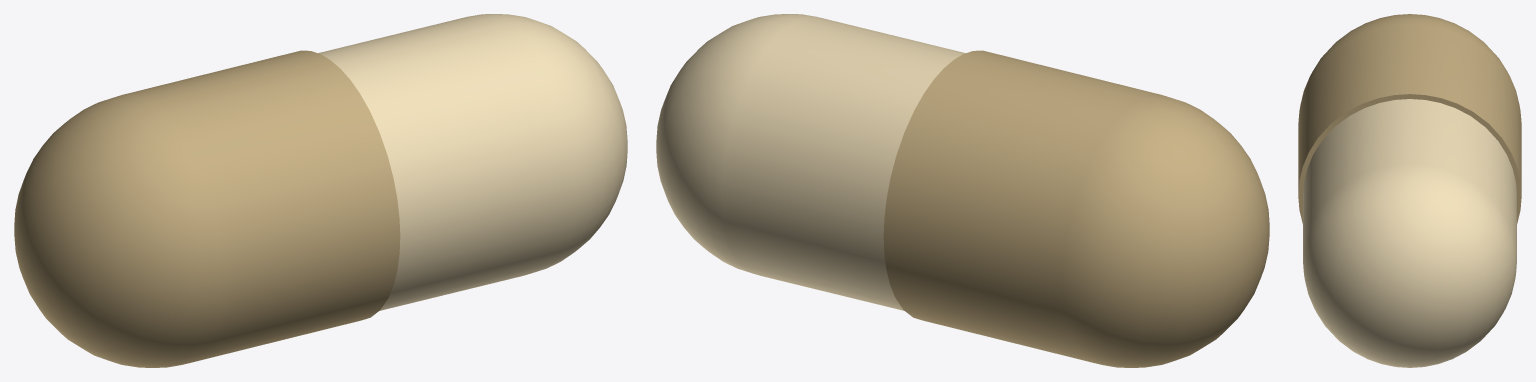
3 renders of one model, left to right at view 1: azimuth 30°, elevation 25°; view 2: azimuth 150°, elevation 25°; view 3: azimuth 270°, elevation 25°, orthographic. The views are drawn at different scales.
Visible parts, largest first — view 1: Roundcube.001, Roundcube; view 2: Roundcube.001, Roundcube; view 3: Roundcube, Roundcube.001.
Boxes of the visible parts, box(x1,y1,x2,y2) form: Roundcube.001: box(14, 50, 400, 367); Roundcube: box(318, 14, 627, 310); Roundcube.001: box(883, 50, 1269, 367); Roundcube: box(656, 14, 965, 310); Roundcube: box(1303, 99, 1516, 367); Roundcube.001: box(1298, 14, 1521, 223).
Bounding box in the file's own units: 5.03 × 2.09 × 2.09.
